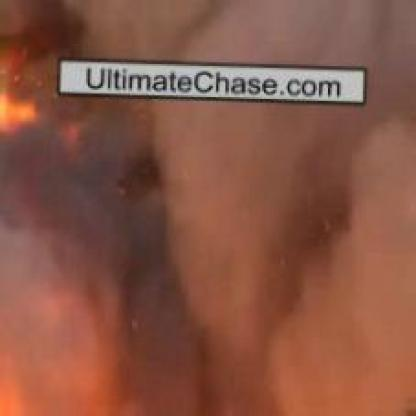fire: (1, 70, 40, 146)
smoke: (56, 99, 402, 405)
